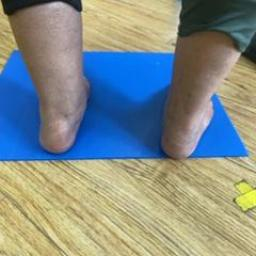Back View -Both Feet-: (14, 42, 239, 184)
